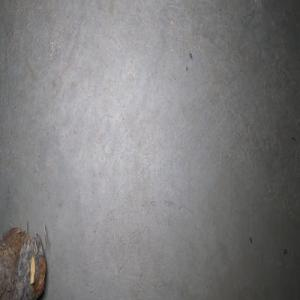Rock: (0, 219, 46, 300)
